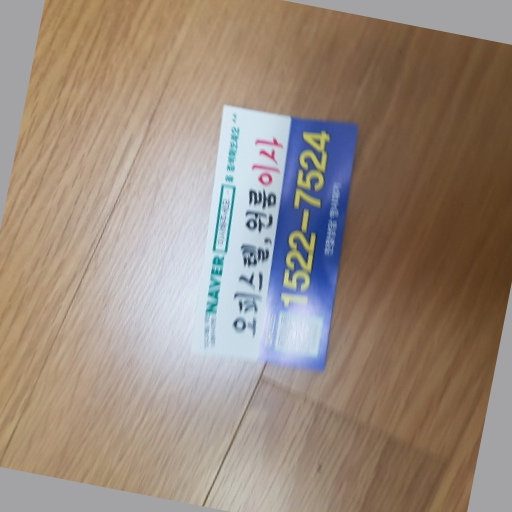Paper_2: (194, 105, 362, 376)
